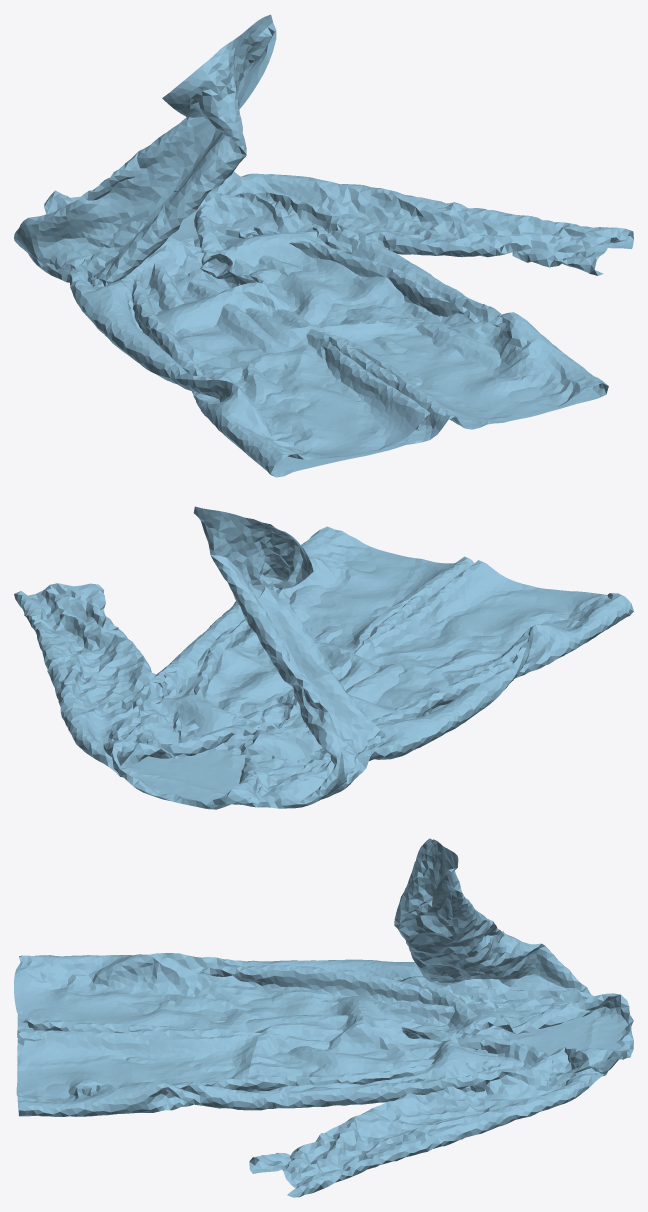
The model's file is frame_16.glb.
The picture shows the model from 3 angles, top to bottom: view 1: azimuth 30°, elevation 25°; view 2: azimuth 150°, elevation 25°; view 3: azimuth 270°, elevation 25°; orthographic projection. The views are drawn at different scales.
Visible parts, largest first — view 1: frame_16.obj; view 2: frame_16.obj; view 3: frame_16.obj.
Boxes of the visible parts, x1,y1,x2,y2 form: frame_16.obj: (14, 14, 633, 477); frame_16.obj: (14, 506, 633, 809); frame_16.obj: (14, 838, 633, 1197).
Bounding box in the file's own units: 1.49 × 0.6496 × 1.68.
